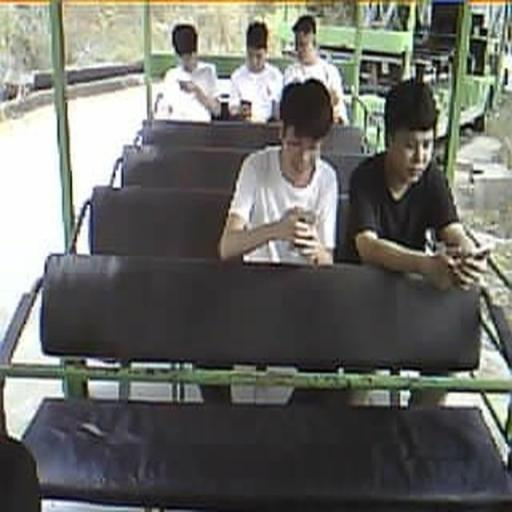persona: (345, 79, 489, 291), (218, 78, 340, 268), (282, 14, 348, 126), (153, 22, 222, 122), (227, 20, 284, 123)
